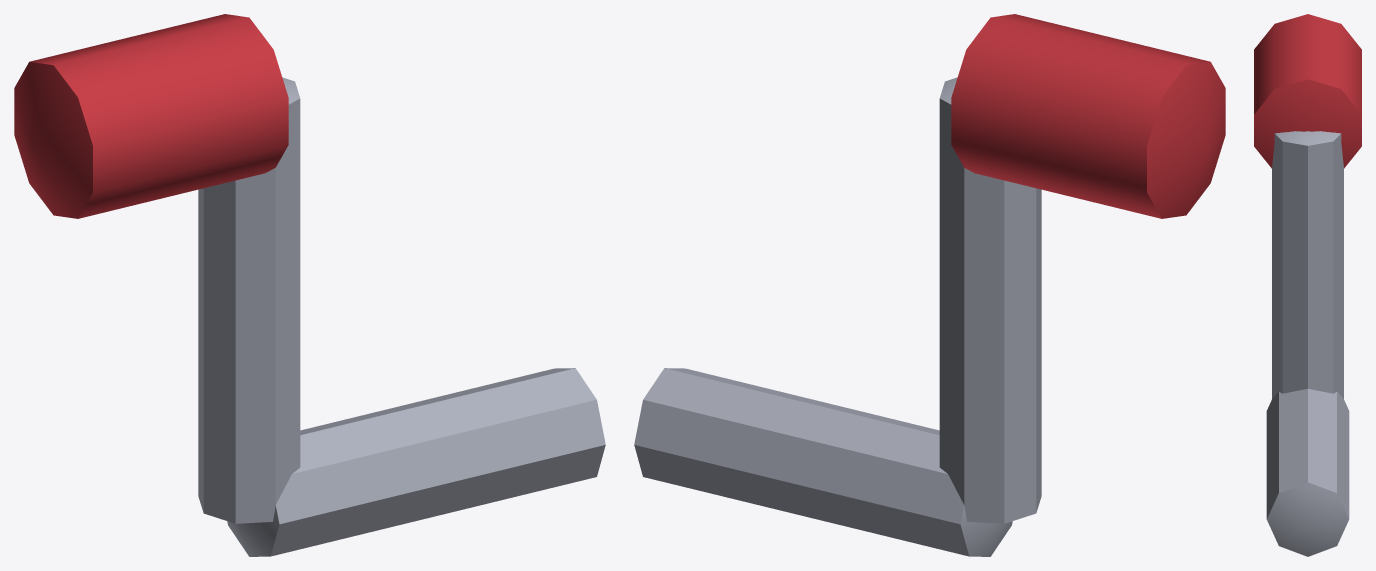
Rendered from Jack_Crank.fbx.
The picture shows the model from 3 angles, left to right: view 1: azimuth 30°, elevation 25°; view 2: azimuth 150°, elevation 25°; view 3: azimuth 270°, elevation 25°; orthographic projection. The views are drawn at different scales.
Visible parts, largest first — view 1: Jack_Crank; view 2: Jack_Crank; view 3: Jack_Crank.
Part boxes in pixels (x1=…): Jack_Crank: x1=14, y1=14, x2=605, y2=556; Jack_Crank: x1=634, y1=14, x2=1225, y2=556; Jack_Crank: x1=1254, y1=14, x2=1361, y2=556.
Size of the model in its own units: 0.0857 by 0.079 by 0.0209.
